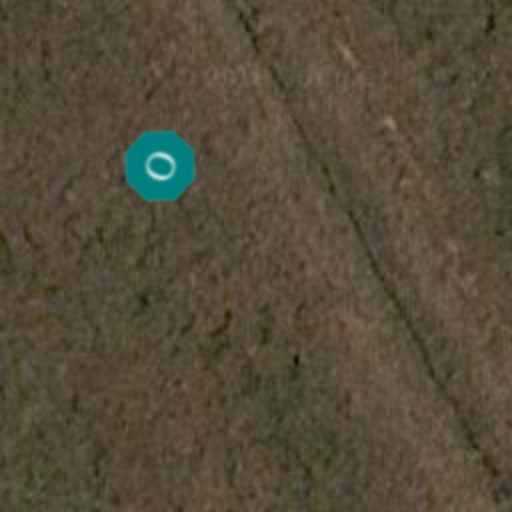octagon: (110, 116, 210, 216)
